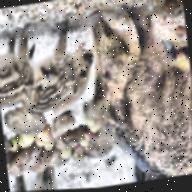boar: (85, 7, 192, 188), (2, 31, 96, 140)
